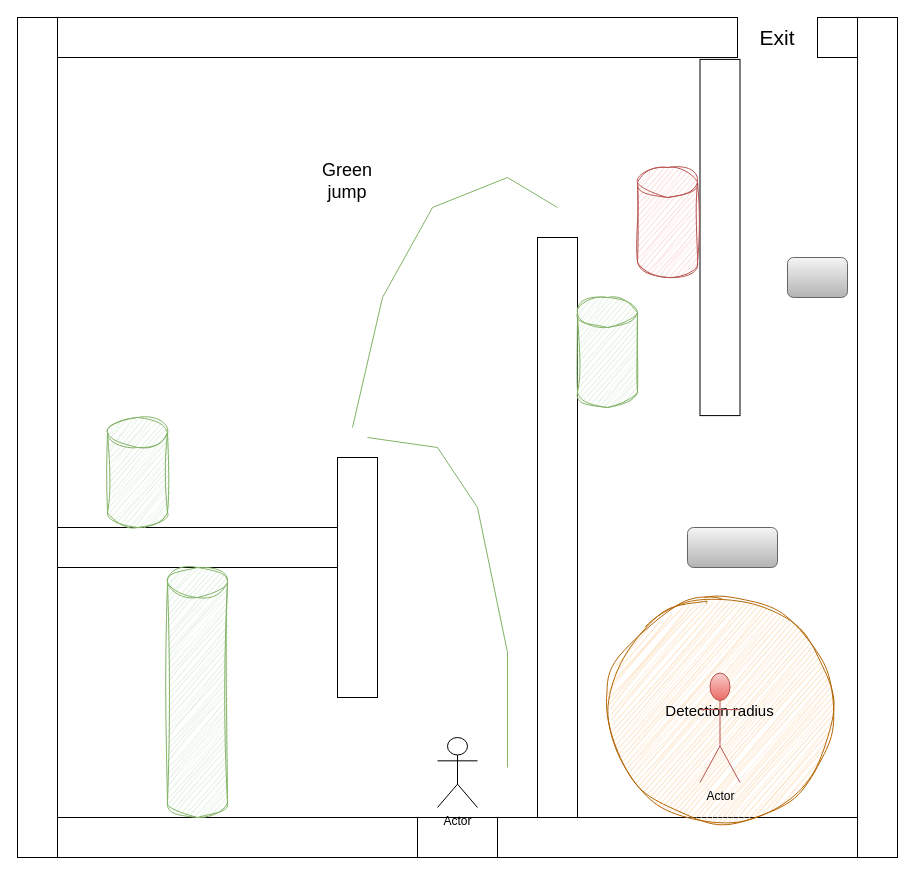
The diagram is 915 pixels wide and 875 high, and some of its shapes have lost their labels. Each missing label, with the centre of its shape:
"Level 3" belongs at [397,37].
"Super Jump" belongs at [197,692].
